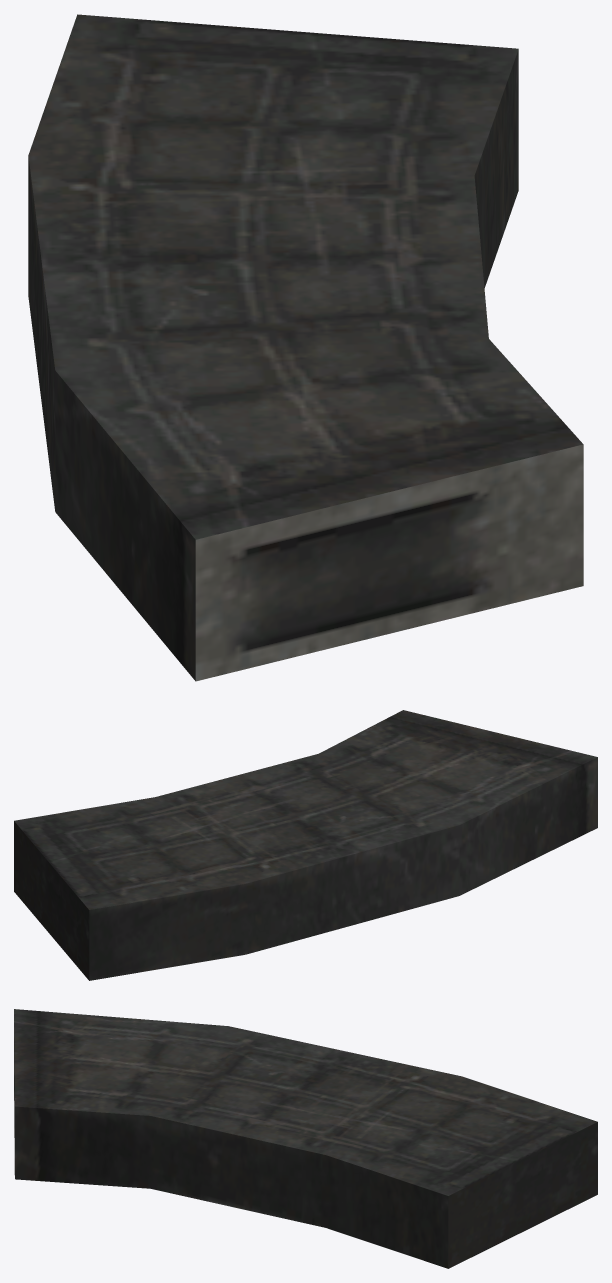
Rendered from t6_attach_mag_type95_world_LOD0.obj.
3 views of the same model, one above another, from view 1: azimuth 30°, elevation 25°; view 2: azimuth 150°, elevation 25°; view 3: azimuth 270°, elevation 25° (orthographic). The views are drawn at different scales.
Visible parts, largest first — view 1: mtl_t6_wpn_ar_type95_camo2; view 2: mtl_t6_wpn_ar_type95_camo2; view 3: mtl_t6_wpn_ar_type95_camo2.
Part boxes in pixels (x1=…): mtl_t6_wpn_ar_type95_camo2: x1=28, y1=14, x2=583, y2=681; mtl_t6_wpn_ar_type95_camo2: x1=14, y1=710, x2=597, y2=980; mtl_t6_wpn_ar_type95_camo2: x1=14, y1=1009, x2=597, y2=1268.
Bounding box in the file's own units: 15.58 × 2.83 × 20.56.
